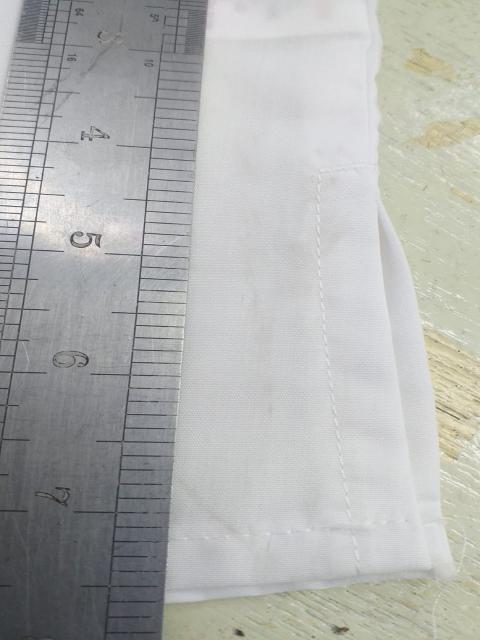Dirty_mark: (176, 479, 244, 539)
